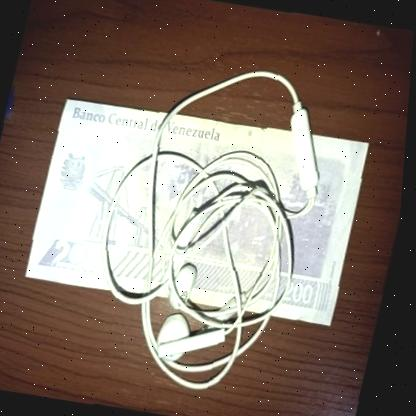two_hundred-back-vef: (23, 94, 378, 328)
